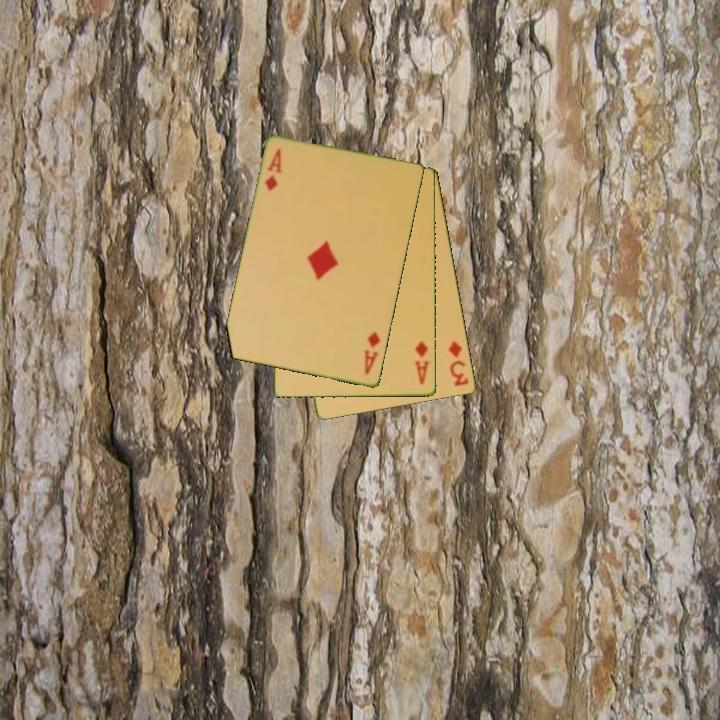3d: (445, 337, 472, 389)
Ad: (261, 146, 285, 194), (411, 338, 433, 388), (361, 328, 383, 378)
